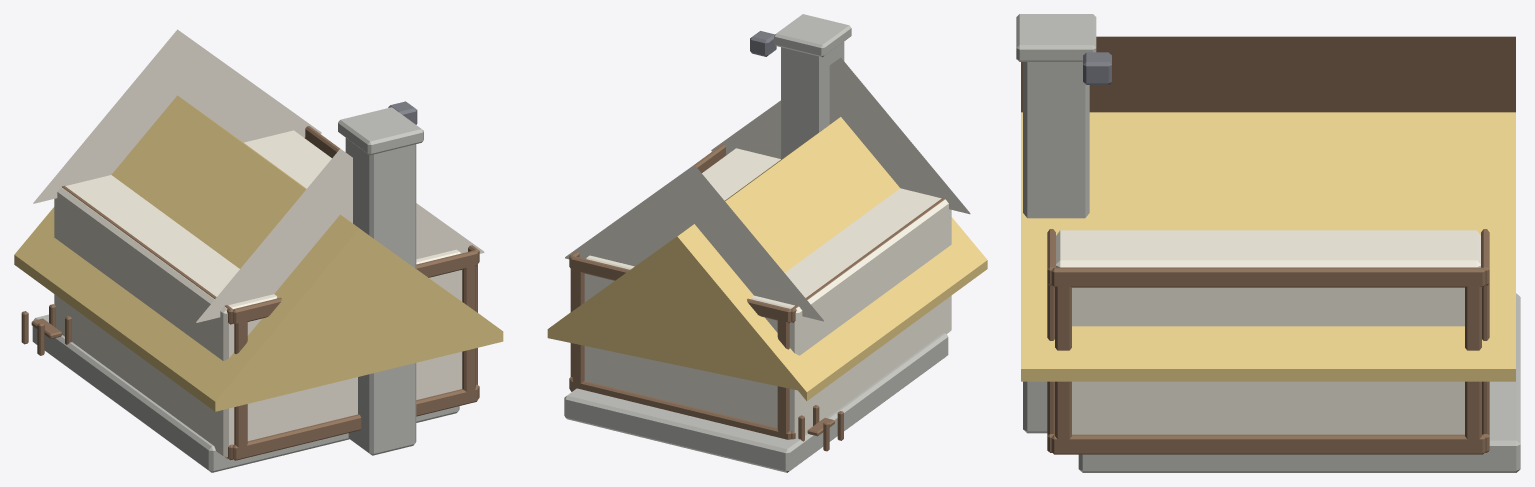
Rendered from town_thatched_cottage.glb.
3 views of the same model, side by side, from view 1: azimuth 30°, elevation 25°; view 2: azimuth 150°, elevation 25°; view 3: azimuth 270°, elevation 25° (orthographic). The views are drawn at different scales.
Visible parts, largest first — view 1: world; view 2: world; view 3: world.
Part boxes in pixels (x1,y1,x2,y2): world: (14, 29, 503, 472); world: (547, 14, 987, 472); world: (1016, 14, 1520, 472).
Bounding box in the file's own units: 1.72 × 1.71 × 2.
